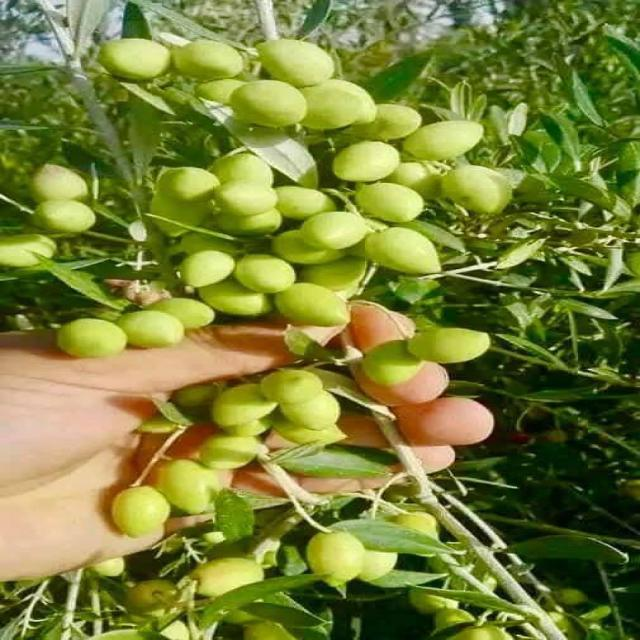Healthy: (151, 153, 280, 236), (212, 369, 350, 444), (359, 326, 489, 387), (307, 533, 398, 587), (257, 40, 338, 88), (228, 80, 307, 129), (360, 228, 440, 275), (440, 164, 511, 215), (403, 119, 483, 161), (153, 459, 213, 515), (275, 283, 351, 326), (171, 39, 245, 82), (98, 38, 170, 82), (110, 486, 170, 538), (193, 557, 264, 599), (54, 319, 127, 358), (355, 182, 423, 223), (333, 141, 399, 183), (300, 211, 370, 250), (117, 309, 185, 348), (232, 255, 295, 294)
